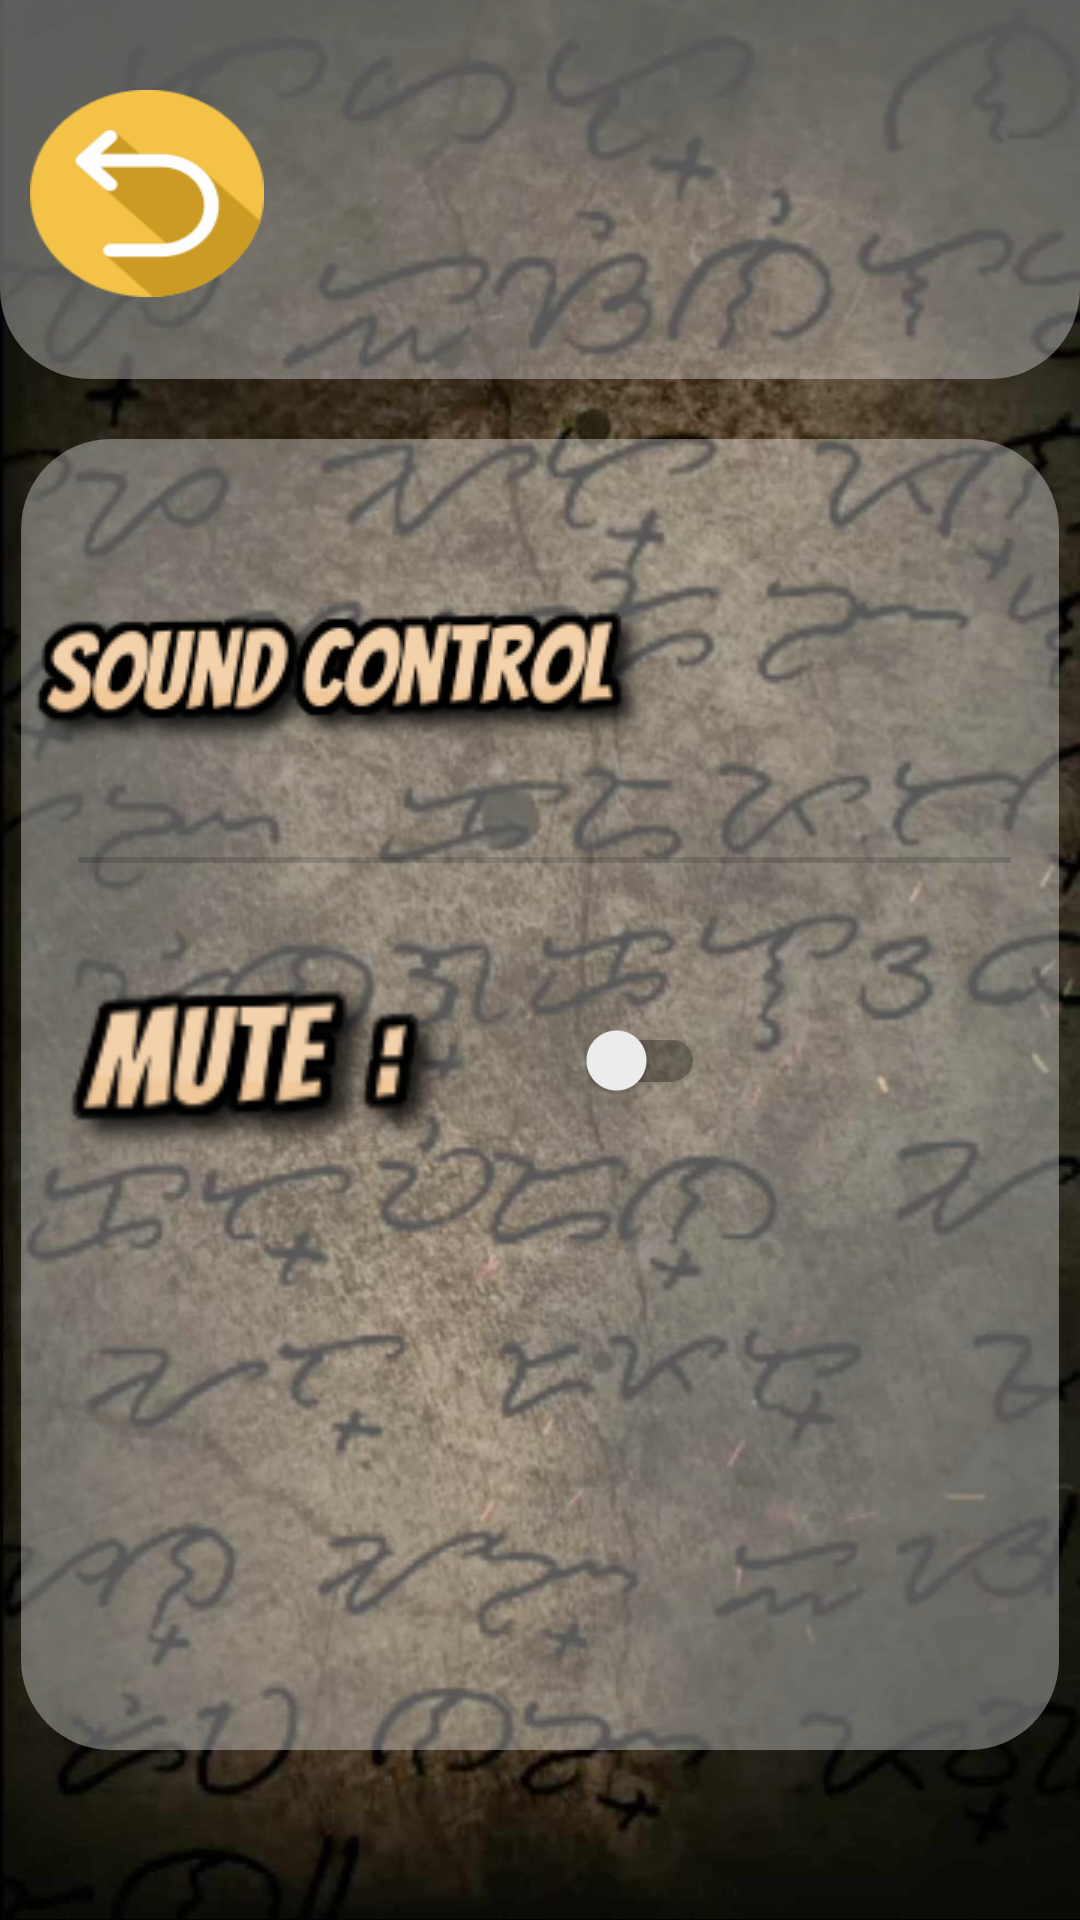

Icon click points for this 1080w x 1920h phone screenshot, format (x,y):
undo: (147,193)
